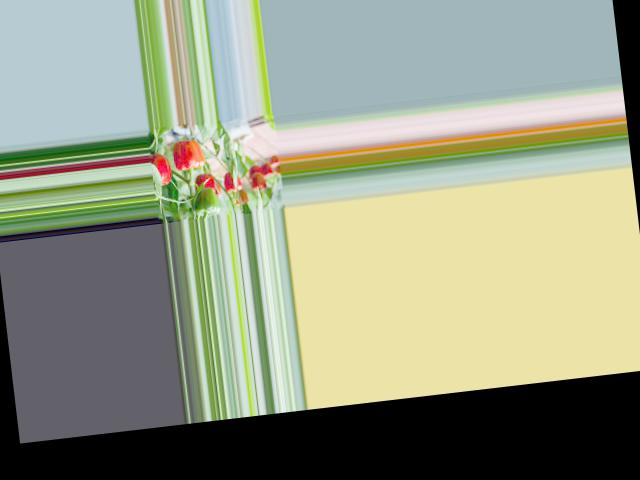bell_pepper: (222, 165, 245, 198)
